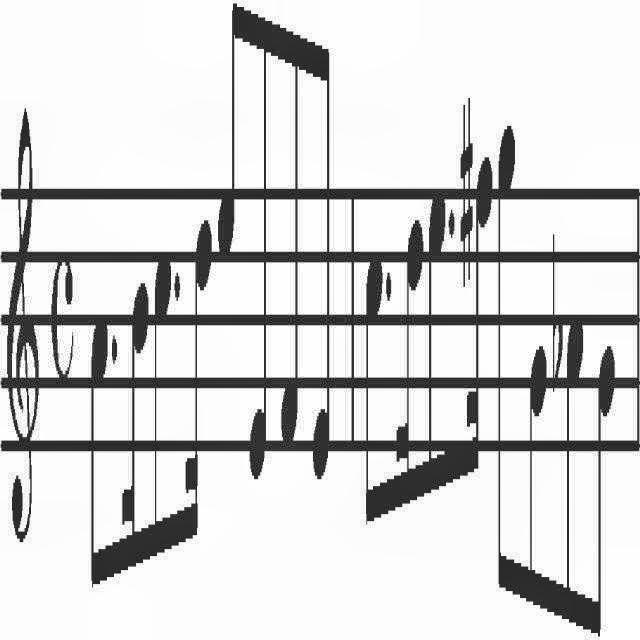Bass-clef: (5, 66, 40, 568)
Bemol: (546, 222, 566, 402)
Diez: (458, 79, 474, 289)
Eighth-note: (304, 22, 336, 500), (494, 92, 518, 634), (249, 0, 271, 496), (280, 8, 298, 472), (217, 0, 245, 272), (426, 149, 446, 523), (563, 294, 585, 634), (84, 306, 108, 602), (593, 318, 615, 640), (364, 228, 384, 570), (526, 328, 548, 628), (154, 232, 172, 576)
Sixteenth-note: (396, 200, 424, 536), (186, 205, 212, 559), (122, 275, 150, 577), (470, 144, 492, 504)
